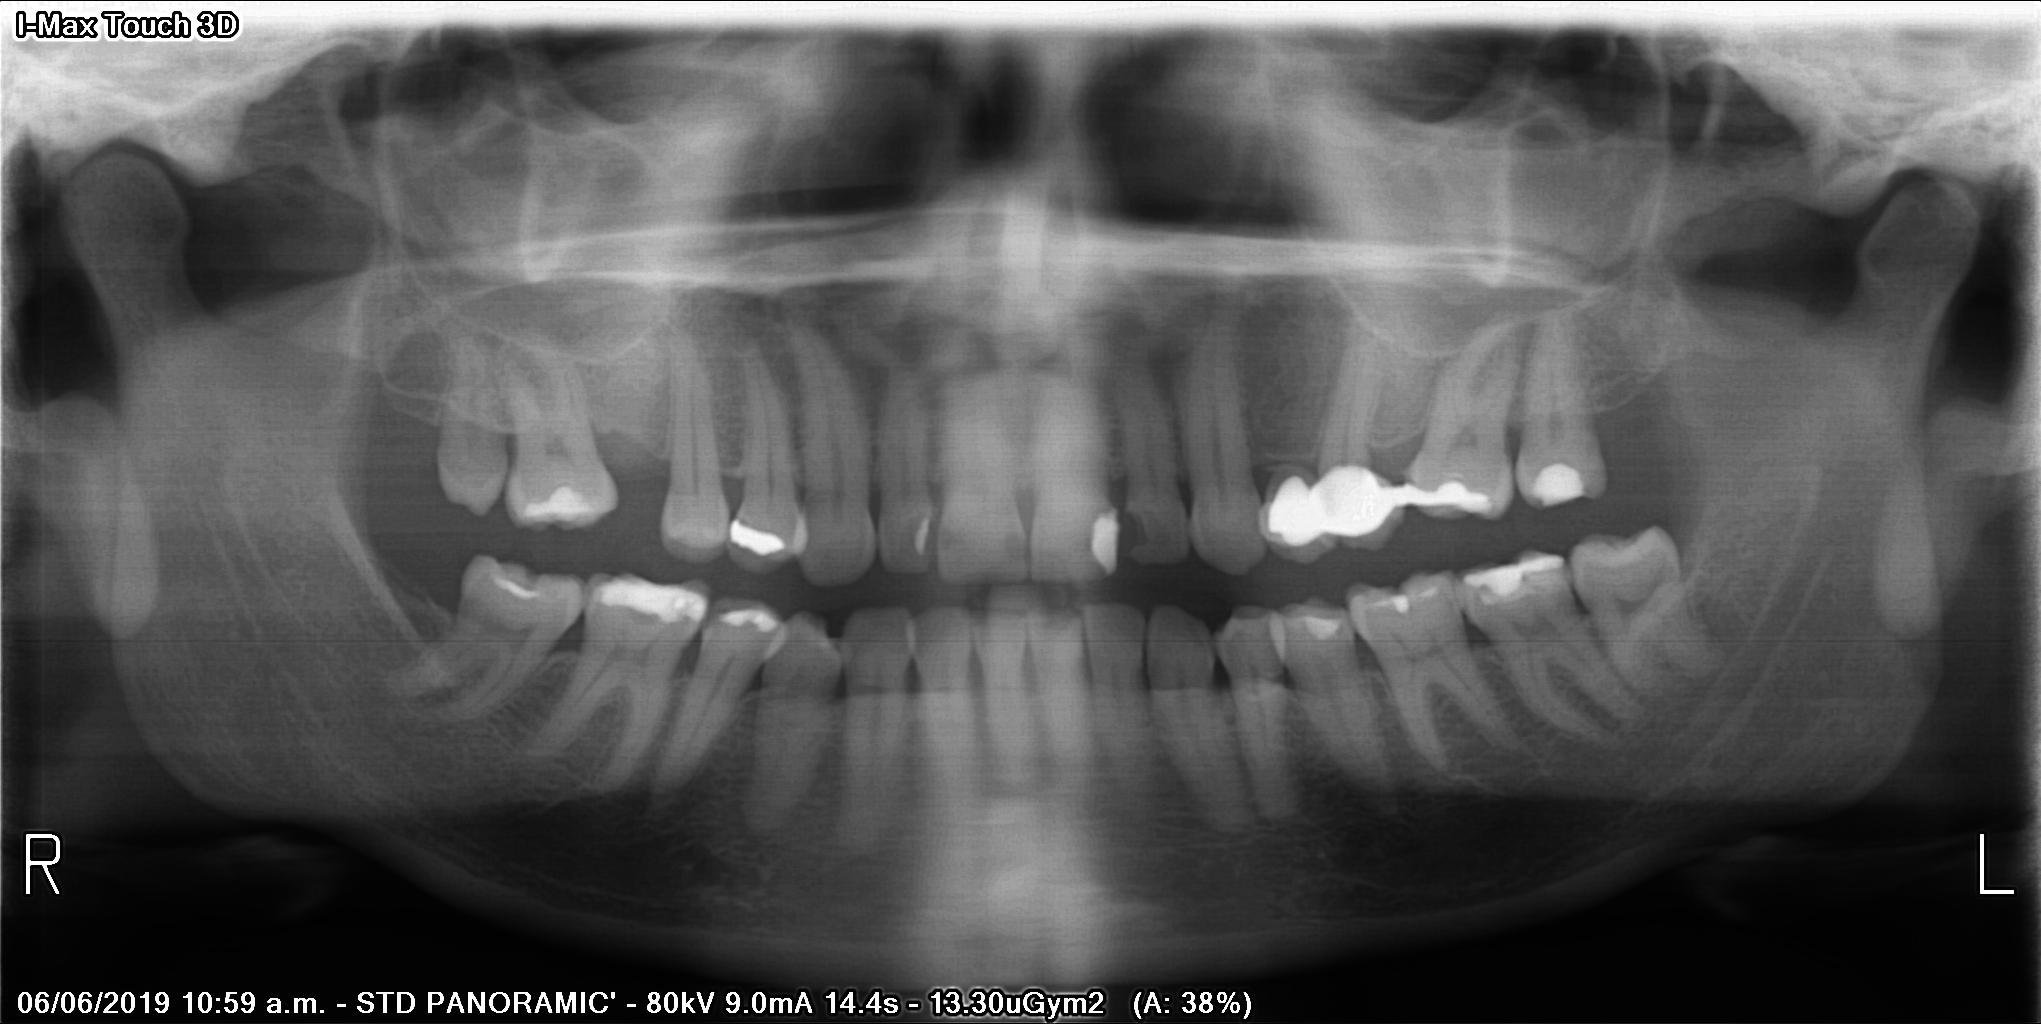Çürük: (592, 563, 697, 624), (1323, 462, 1388, 546), (1517, 457, 1619, 509), (1466, 555, 1564, 598), (525, 482, 594, 530), (731, 511, 797, 552), (481, 567, 552, 602), (1085, 509, 1118, 579), (727, 602, 787, 636), (1302, 613, 1341, 637), (1375, 592, 1409, 613), (918, 519, 934, 555)
Çürük Bölgesi: (1114, 507, 1141, 556), (709, 589, 731, 636), (1005, 533, 1030, 572), (939, 524, 958, 556)
